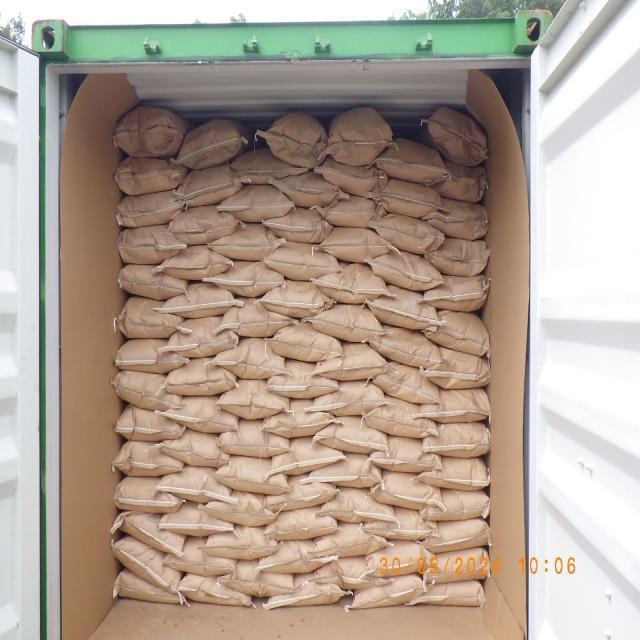gunny_bag: (326, 109, 394, 170), (110, 536, 184, 592), (112, 108, 187, 162), (174, 118, 248, 170), (424, 113, 491, 167), (112, 509, 186, 556), (311, 262, 391, 304), (376, 138, 449, 184), (370, 212, 446, 255), (252, 124, 326, 168), (368, 326, 443, 369), (164, 318, 240, 360), (368, 286, 440, 330), (261, 243, 340, 283), (368, 250, 443, 292), (269, 321, 342, 364), (217, 378, 290, 421), (218, 300, 296, 340), (112, 367, 184, 410), (208, 222, 285, 262), (216, 184, 294, 223), (269, 437, 345, 477), (310, 303, 386, 343), (258, 280, 334, 320), (112, 158, 188, 198), (164, 536, 240, 576), (176, 164, 245, 208), (423, 312, 489, 358), (216, 337, 288, 379), (169, 204, 241, 246), (115, 297, 185, 340), (369, 470, 444, 510), (362, 400, 437, 440), (266, 360, 341, 400), (311, 378, 389, 416), (350, 571, 428, 609), (217, 560, 295, 598), (369, 180, 443, 220), (160, 283, 240, 320), (372, 362, 442, 404), (163, 396, 240, 434), (160, 467, 237, 505), (424, 346, 492, 389), (165, 356, 238, 396), (218, 418, 292, 457), (316, 158, 388, 198), (208, 262, 288, 298), (262, 399, 334, 439), (314, 418, 389, 456), (314, 520, 389, 558), (319, 488, 396, 525), (217, 458, 290, 497), (177, 570, 256, 606), (159, 430, 230, 470), (308, 452, 384, 489), (317, 227, 393, 264), (112, 338, 186, 376), (315, 342, 389, 380), (263, 474, 337, 512), (272, 170, 344, 209), (231, 150, 306, 187), (111, 440, 184, 478), (112, 569, 186, 606), (420, 388, 492, 426), (364, 541, 436, 579), (157, 502, 233, 538), (361, 506, 437, 542), (258, 541, 336, 576), (118, 226, 186, 266), (262, 113, 328, 154), (367, 436, 442, 472), (113, 476, 184, 514), (114, 190, 184, 228), (422, 516, 492, 554), (115, 404, 185, 442), (203, 493, 279, 528), (266, 576, 349, 608), (157, 244, 230, 280), (204, 525, 279, 560), (423, 420, 492, 458), (426, 238, 491, 278), (262, 207, 332, 244), (116, 263, 186, 300), (424, 274, 492, 312), (422, 546, 490, 584), (428, 164, 491, 204), (419, 489, 491, 524), (425, 199, 488, 239), (265, 506, 339, 540), (314, 556, 388, 590), (420, 458, 492, 492), (316, 194, 386, 228), (408, 579, 486, 607), (324, 138, 394, 167)
